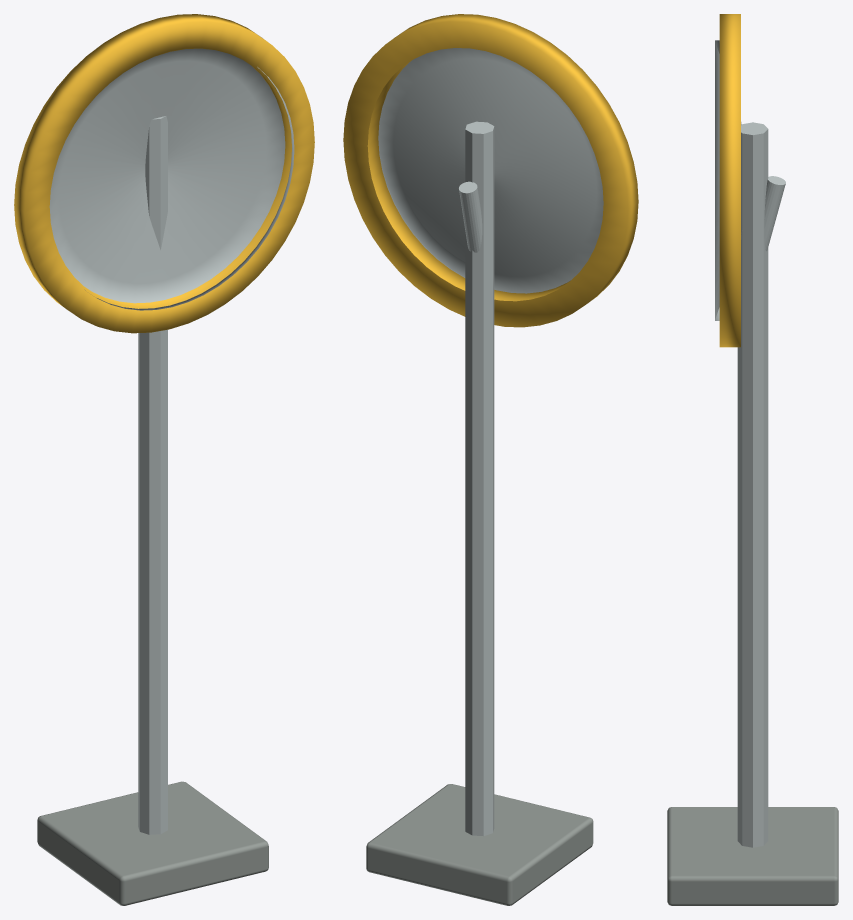
Rendered from mountain-border-checkpoint-mountain-border-checkpoint--262ab260__30321.glb.
The picture shows the model from 3 angles, left to right: view 1: azimuth 30°, elevation 25°; view 2: azimuth 150°, elevation 25°; view 3: azimuth 270°, elevation 25°; orthographic projection.
Parts seen in each view (by area): view 1: mountain-border-checkpoint-roadside-inspection-mirror; view 2: mountain-border-checkpoint-roadside-inspection-mirror; view 3: mountain-border-checkpoint-roadside-inspection-mirror.
Boxes of the visible parts, bbox=[...] form: mountain-border-checkpoint-roadside-inspection-mirror: bbox=[14, 14, 314, 905]; mountain-border-checkpoint-roadside-inspection-mirror: bbox=[343, 14, 638, 905]; mountain-border-checkpoint-roadside-inspection-mirror: bbox=[667, 14, 838, 905].
Size of the model in its own units: 0.7 by 1.95 by 0.36.
